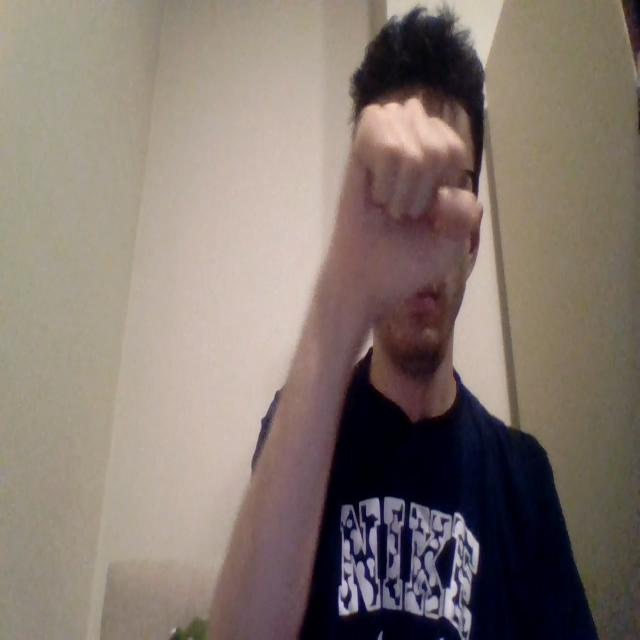yes: (334, 97, 482, 320)
